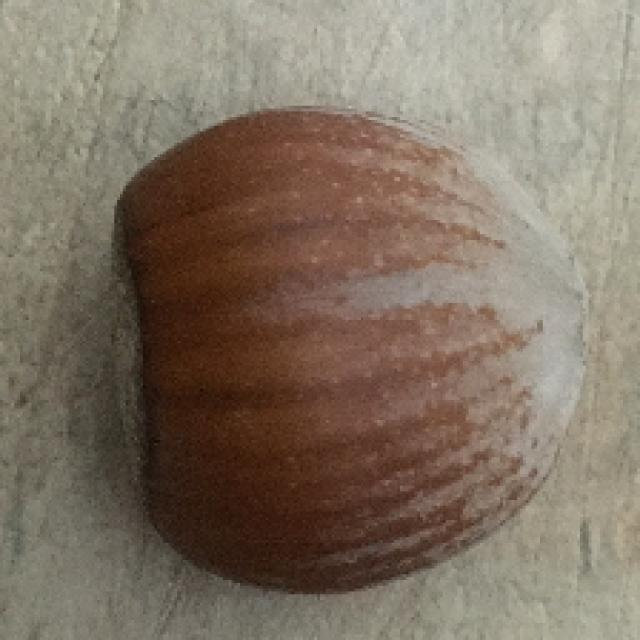qualityHazelnut: (86, 112, 586, 592)
